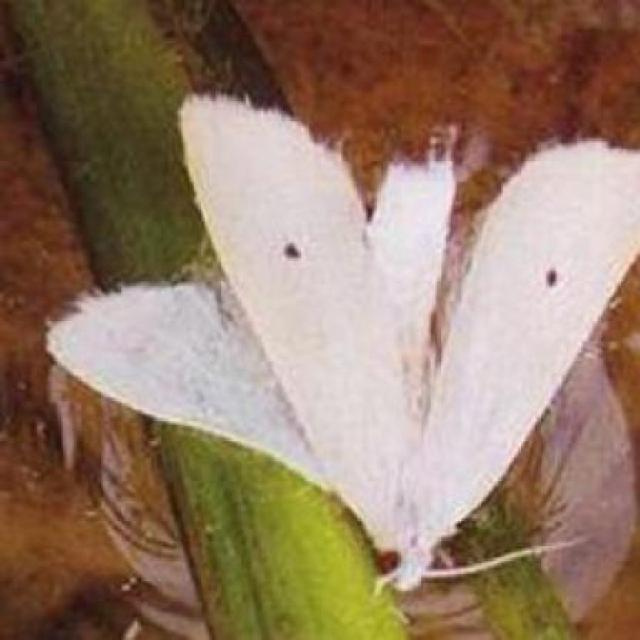stem-borer: (43, 98, 639, 596)
